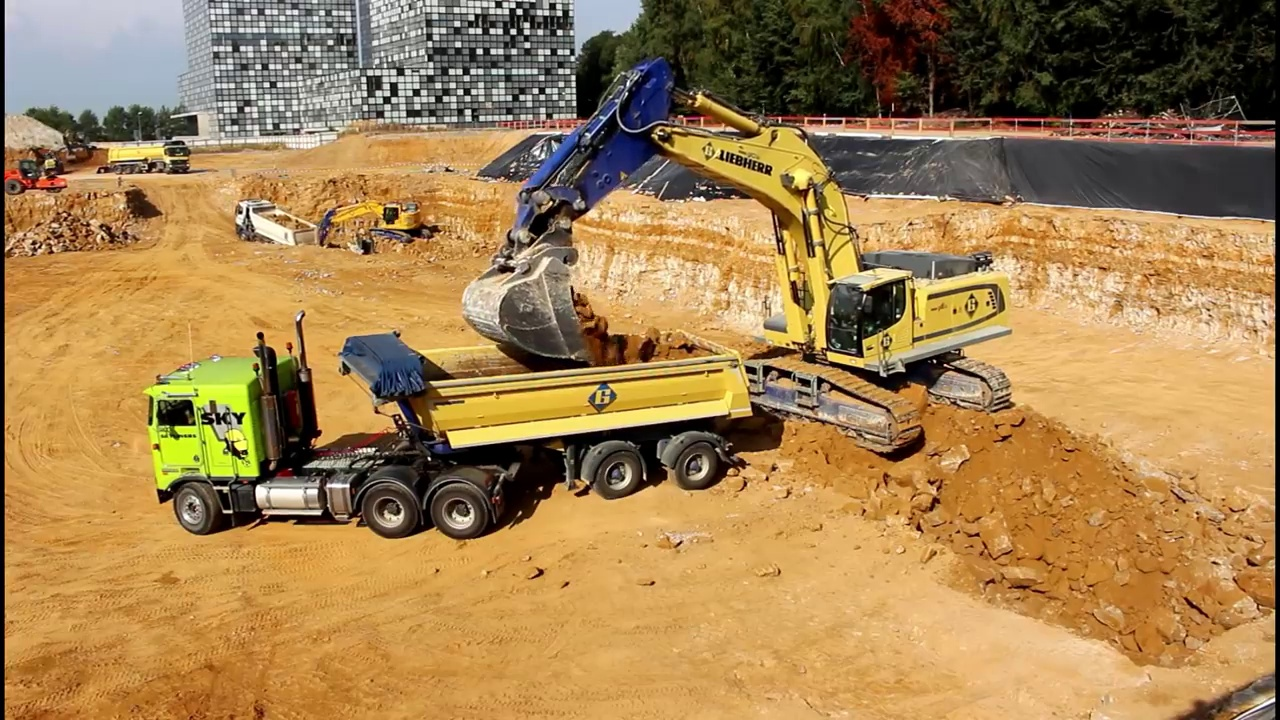compactor: (2, 158, 71, 198)
excavator: (461, 52, 1021, 465), (318, 188, 442, 258), (52, 124, 105, 169)
truck: (139, 306, 760, 543), (236, 199, 322, 262), (102, 134, 197, 181)
